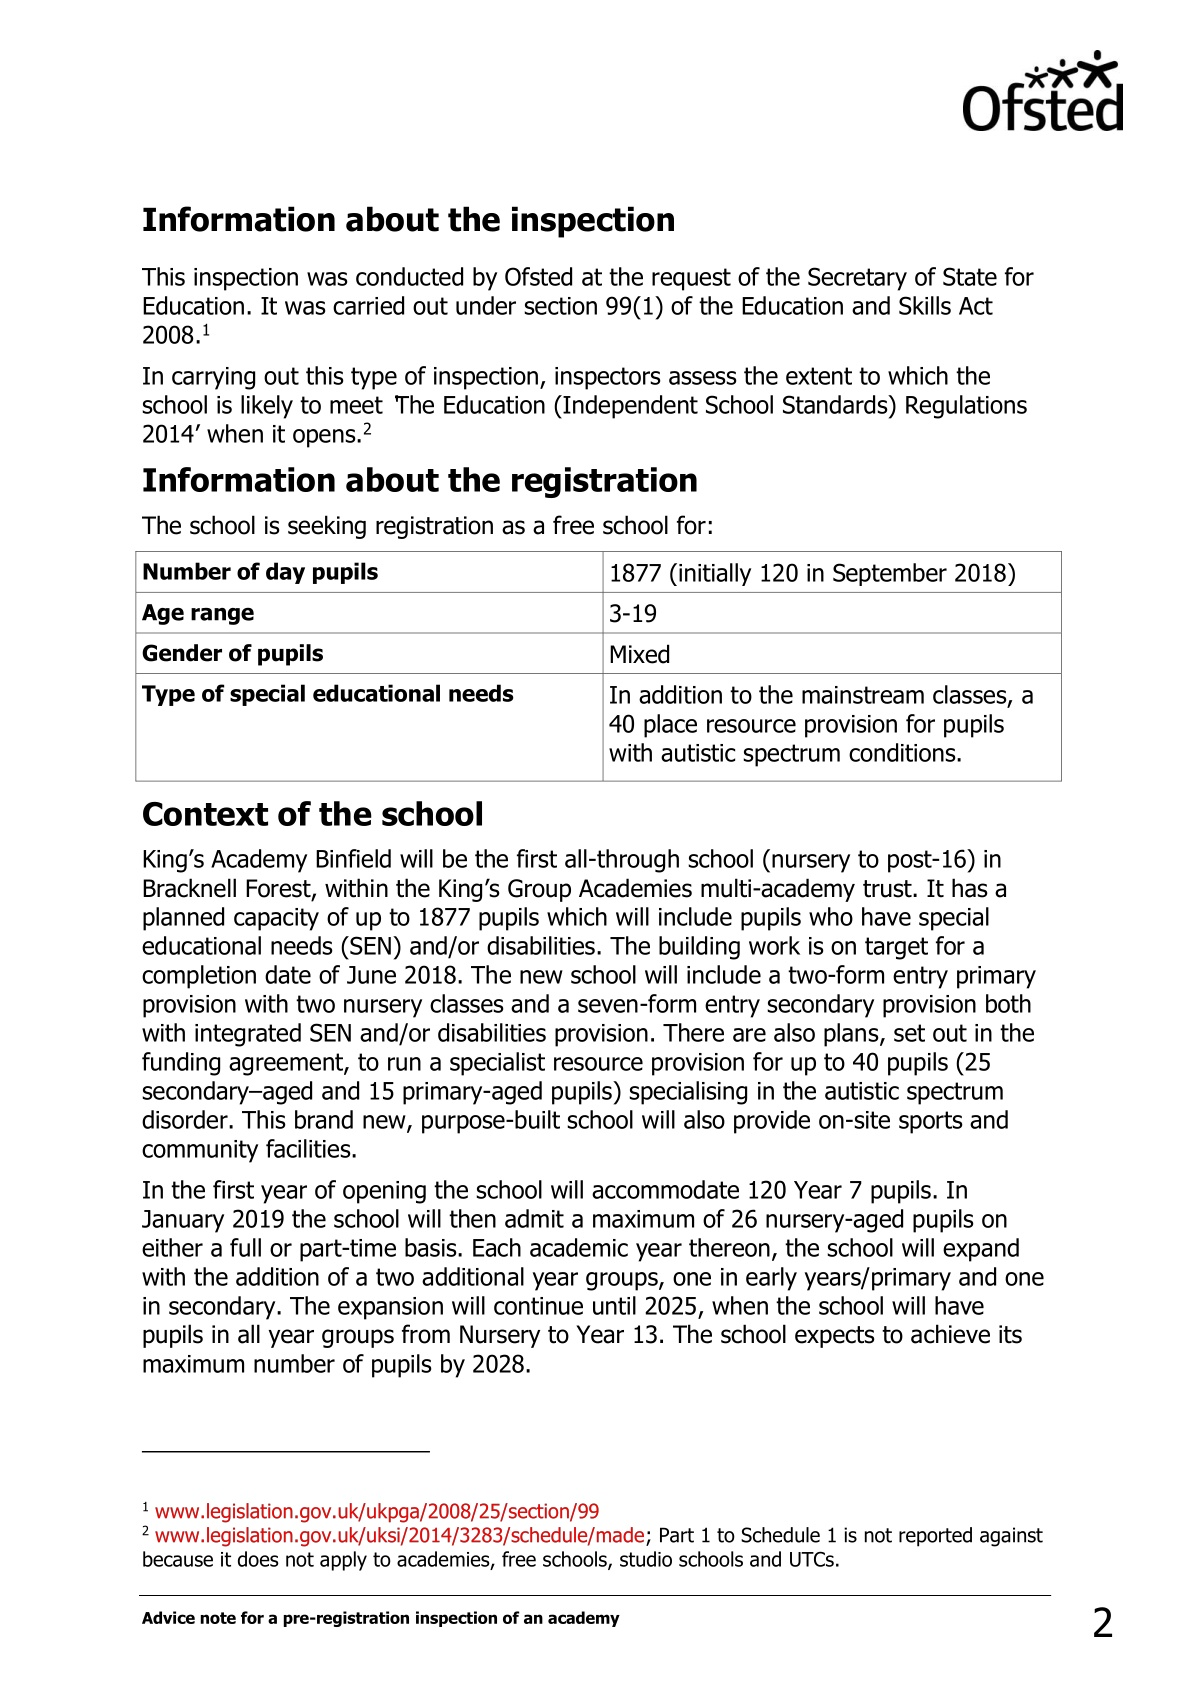full_lined: (134, 548, 1062, 783)
